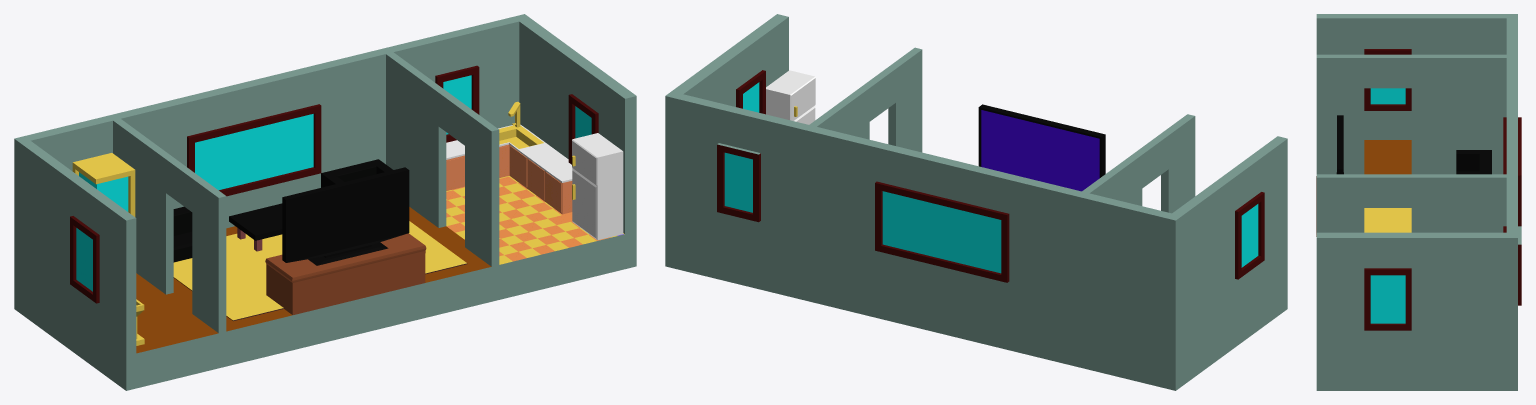
Rendered from Appartment.005.glb.
3 views of the same model, side by side, from view 1: azimuth 30°, elevation 25°; view 2: azimuth 150°, elevation 25°; view 3: azimuth 270°, elevation 25° (orthographic). The views are drawn at different scales.
Visible parts, largest first — view 1: Cube; view 2: Cube; view 3: Cube.
Part boxes in pixels (x1,y1,x2,y2): Cube: [14, 14, 636, 390]; Cube: [665, 14, 1287, 390]; Cube: [1316, 14, 1521, 390].
Size of the model in its own units: 16 by 5.03 by 6.12.
Materials: 1 (1 with a texture image).
